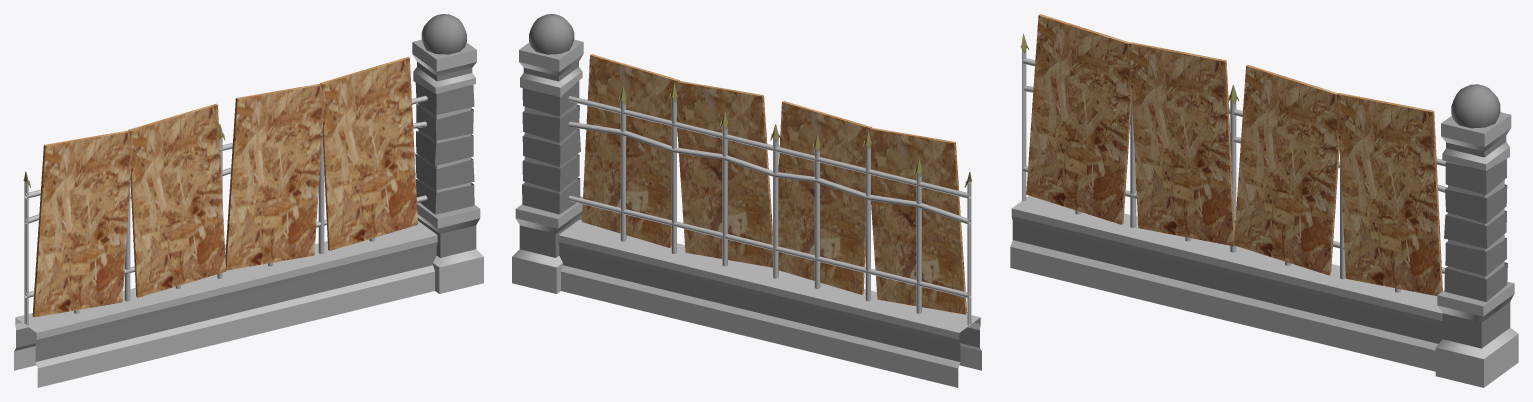
File: Fence_EndStrong_Mod_01.fbx
3 views of the same model, side by side, from view 1: azimuth 30°, elevation 25°; view 2: azimuth 150°, elevation 25°; view 3: azimuth 330°, elevation 25° (orthographic). The views are drawn at different scales.
Visible parts, largest first — view 1: polySurface58; view 2: polySurface58; view 3: polySurface58.
Boxes of the visible parts, <box> form: polySurface58: <box>14,14,483,387</box>; polySurface58: <box>512,14,981,387</box>; polySurface58: <box>1010,14,1518,387</box>.
Size of the model in its own units: 5 by 2.82 by 0.6284.
